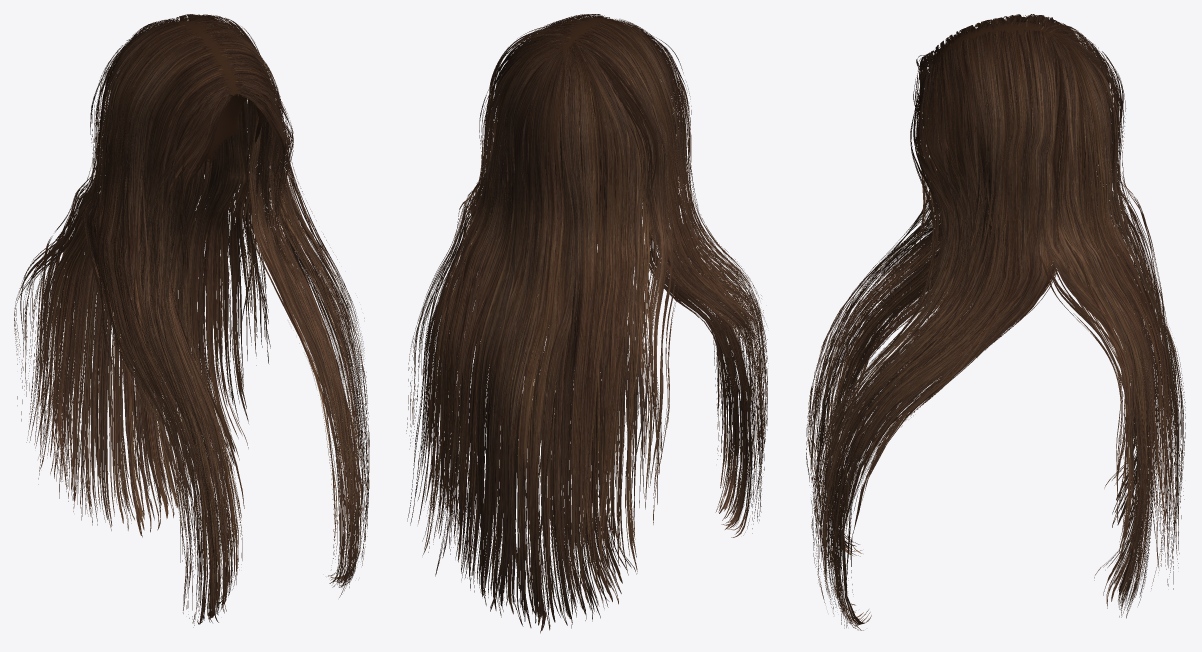
File: freya_test.glb
3 views of the same model, side by side, from view 1: azimuth 30°, elevation 25°; view 2: azimuth 150°, elevation 25°; view 3: azimuth 270°, elevation 25° (orthographic). The views are drawn at different scales.
Parts seen in each view (by area): view 1: Freya_Hair, Freya_Cap; view 2: Freya_Hair, Freya_Cap; view 3: Freya_Hair, Freya_Cap.
Part boxes in pixels (<box>): Freya_Hair: <box>14,14,369,627</box>; Freya_Cap: <box>133,20,265,170</box>; Freya_Hair: <box>406,14,768,633</box>; Freya_Cap: <box>513,17,646,218</box>; Freya_Hair: <box>806,14,1185,630</box>; Freya_Cap: <box>933,22,1095,198</box>.
Bounding box in the file's own units: 0.3393 × 0.6878 × 0.4043.
2 materials, 2 textured.
